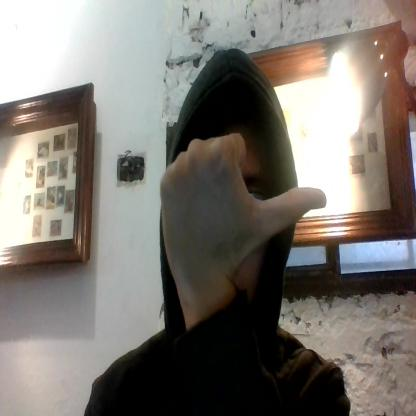left: (157, 131, 326, 262)
